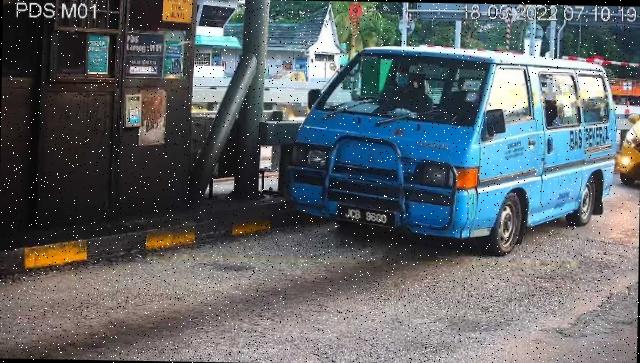License_Plate: (337, 203, 399, 231)
van: (284, 45, 619, 259)
